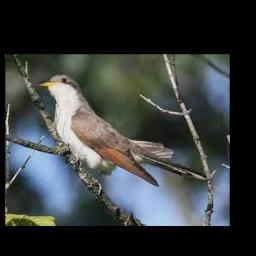Cuckoo: (39, 74, 174, 187)
